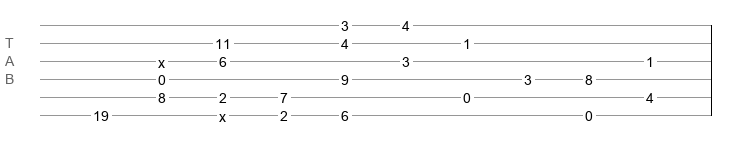0: (158, 72, 166, 82), (463, 90, 471, 100), (585, 108, 593, 118)
1: (463, 36, 471, 46), (646, 54, 654, 64)
11: (215, 36, 231, 46)
19: (93, 108, 109, 118)
2: (219, 90, 227, 100), (280, 108, 288, 118)
3: (341, 18, 349, 28), (402, 54, 410, 64), (524, 72, 532, 82)
4: (341, 36, 349, 46), (402, 18, 410, 28), (646, 90, 654, 100)
6: (219, 54, 227, 64), (341, 108, 349, 118)
7: (280, 90, 288, 100)
8: (158, 90, 166, 100), (585, 72, 593, 82)
9: (341, 72, 349, 82)
x: (158, 55, 165, 63), (219, 109, 226, 117)
